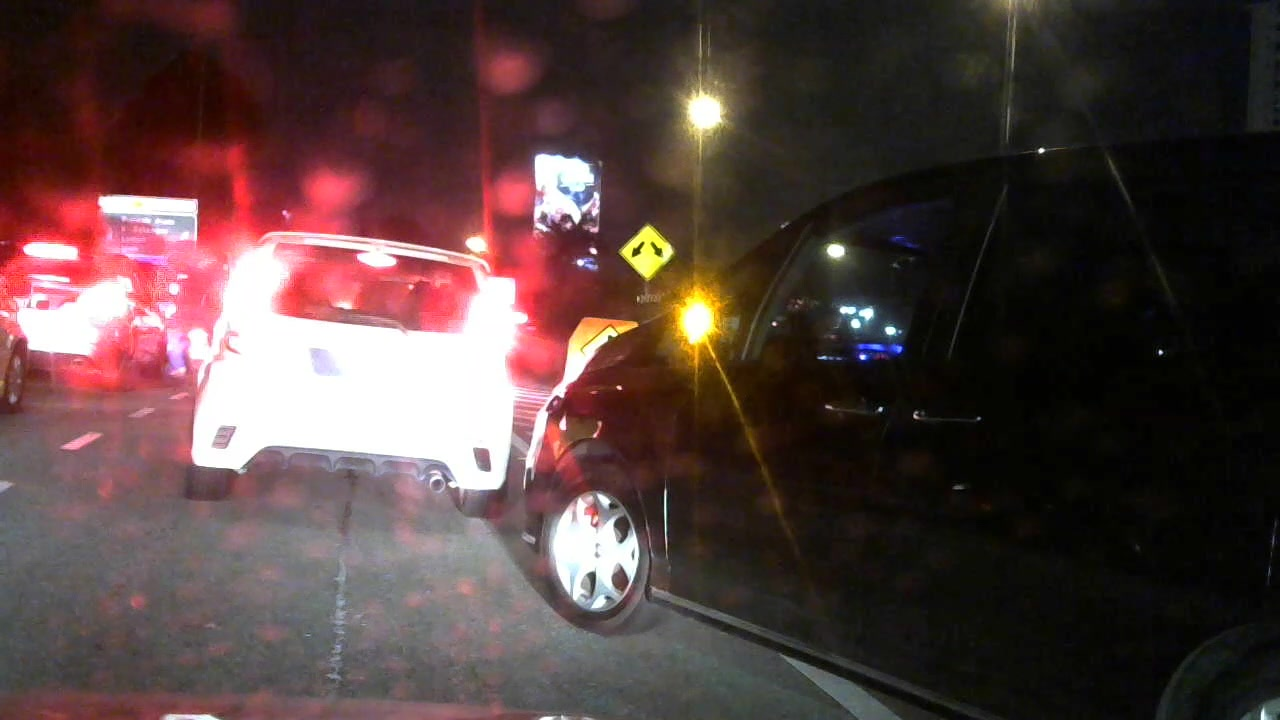Car: (506, 104, 1244, 709), (197, 220, 524, 516), (18, 234, 172, 383), (1, 302, 35, 406)
